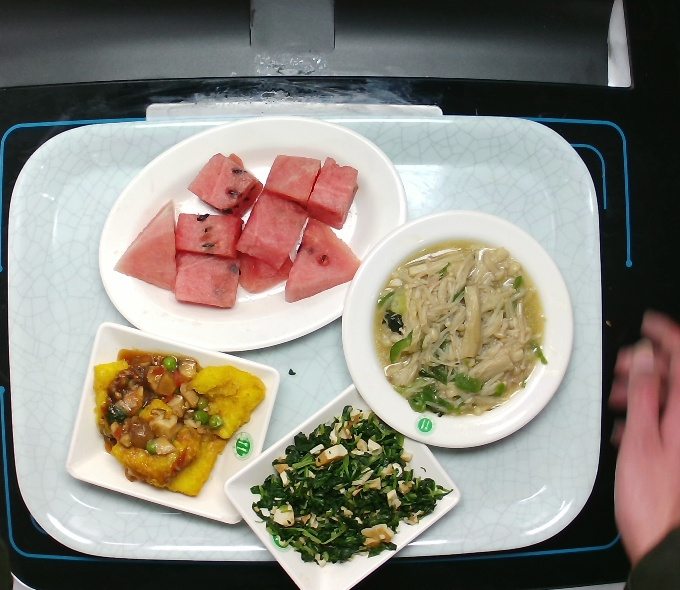wcq-CuiPiDouFu: (88, 344, 271, 500)
wcq-JinZhenGu: (367, 234, 546, 421)
wcq-MaLanTouChaoDouGan: (249, 401, 447, 566)
wcq-XiGua: (108, 146, 364, 314)
